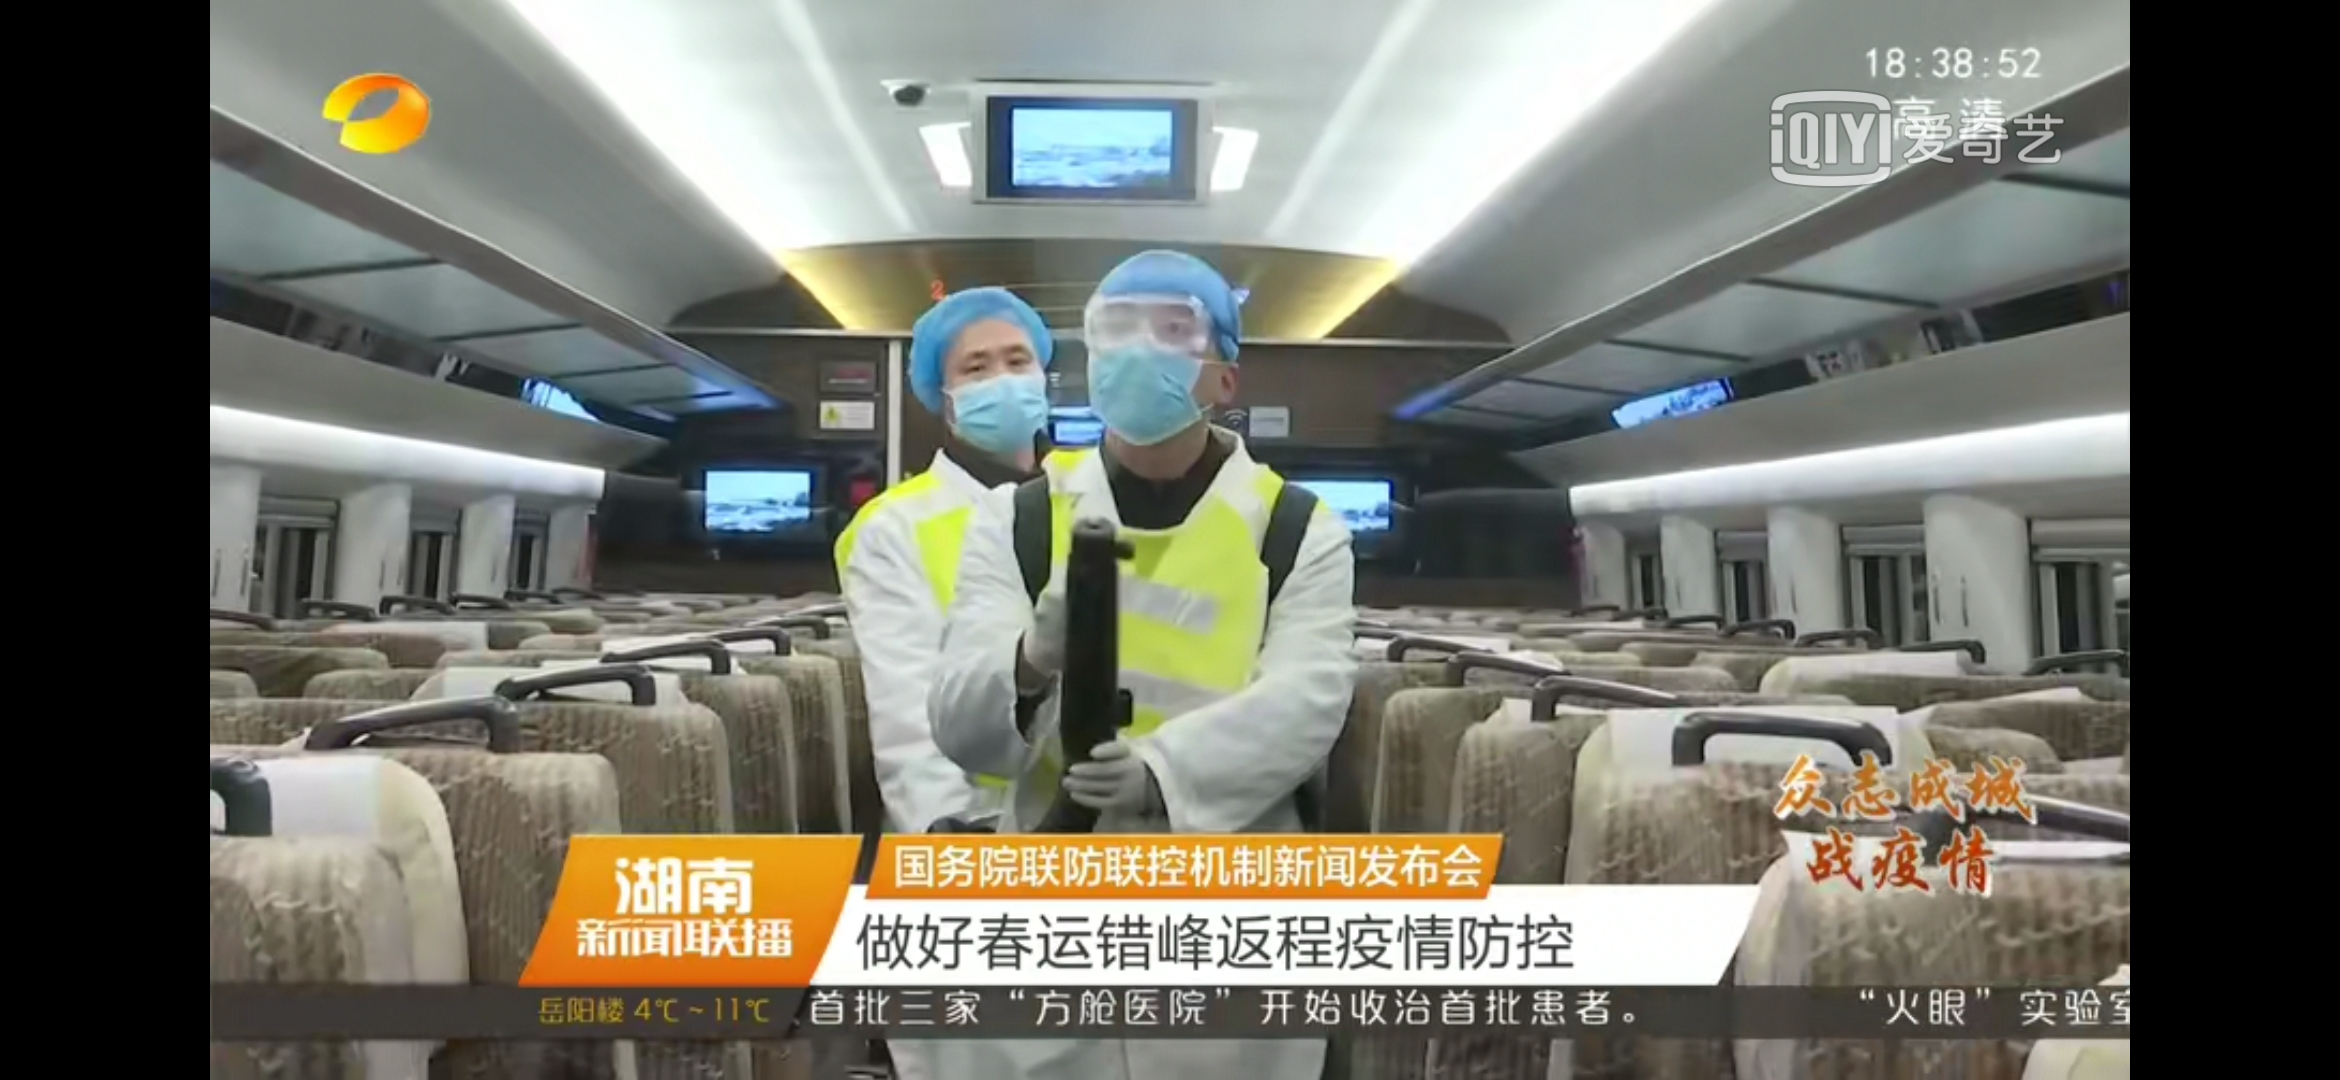correctlyWear: (1086, 303, 1237, 445), (925, 330, 1064, 453)
